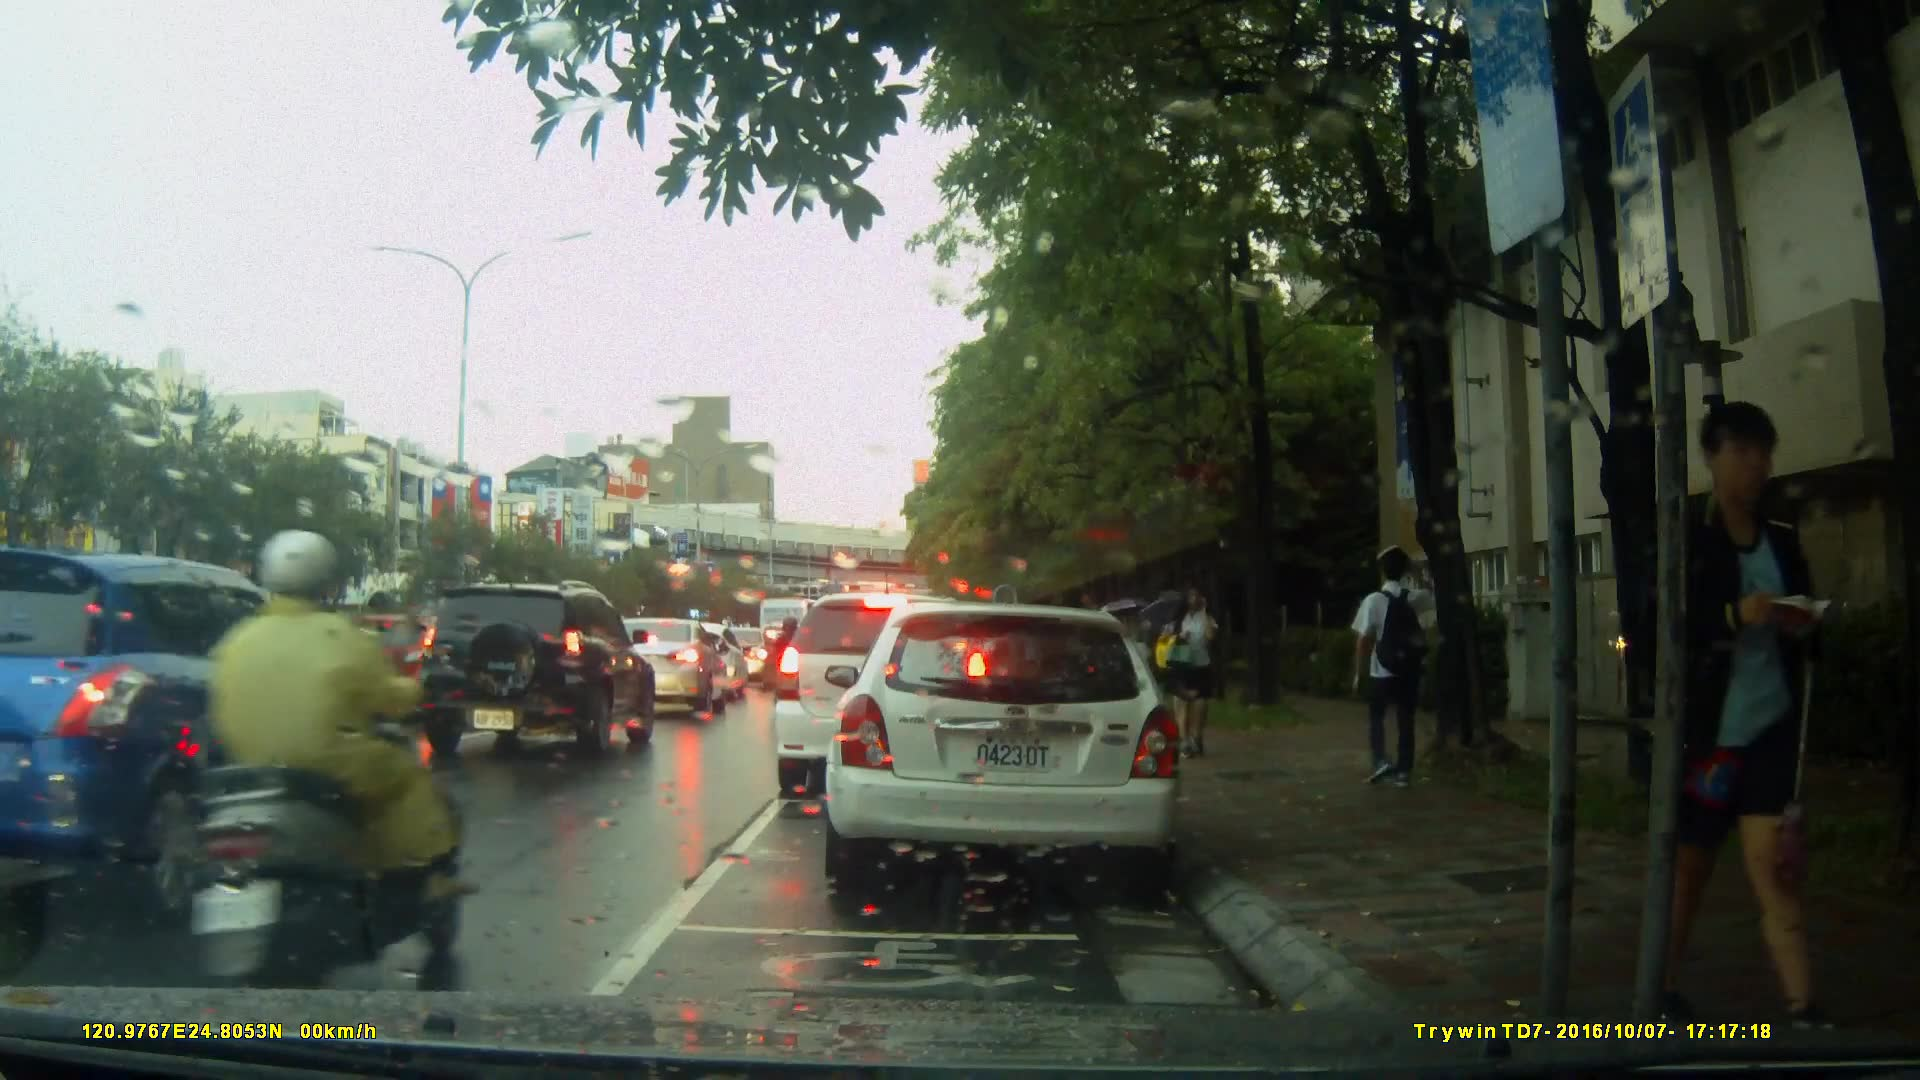pedestrian: (1672, 393, 1824, 1047), (1335, 540, 1445, 792), (1160, 573, 1222, 753)
rider: (170, 529, 468, 996), (768, 615, 802, 708)
vehicle: (2, 551, 393, 905), (815, 593, 1202, 903), (771, 590, 995, 802), (413, 580, 660, 763), (324, 611, 498, 720), (583, 615, 725, 723)
